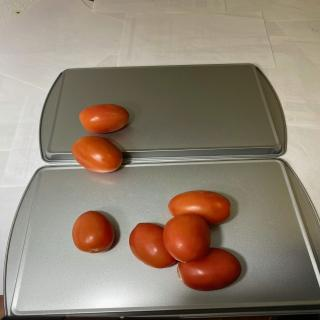Tomato: (176, 248, 242, 291), (162, 213, 211, 263), (129, 222, 177, 268), (168, 190, 231, 225), (71, 136, 123, 173), (72, 210, 115, 253), (79, 104, 129, 134)
